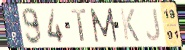4: (46, 7, 65, 45)
9: (19, 6, 43, 46)
J: (145, 7, 163, 43)
K: (118, 7, 141, 44)
M: (88, 7, 119, 44)
T: (69, 8, 88, 43)
